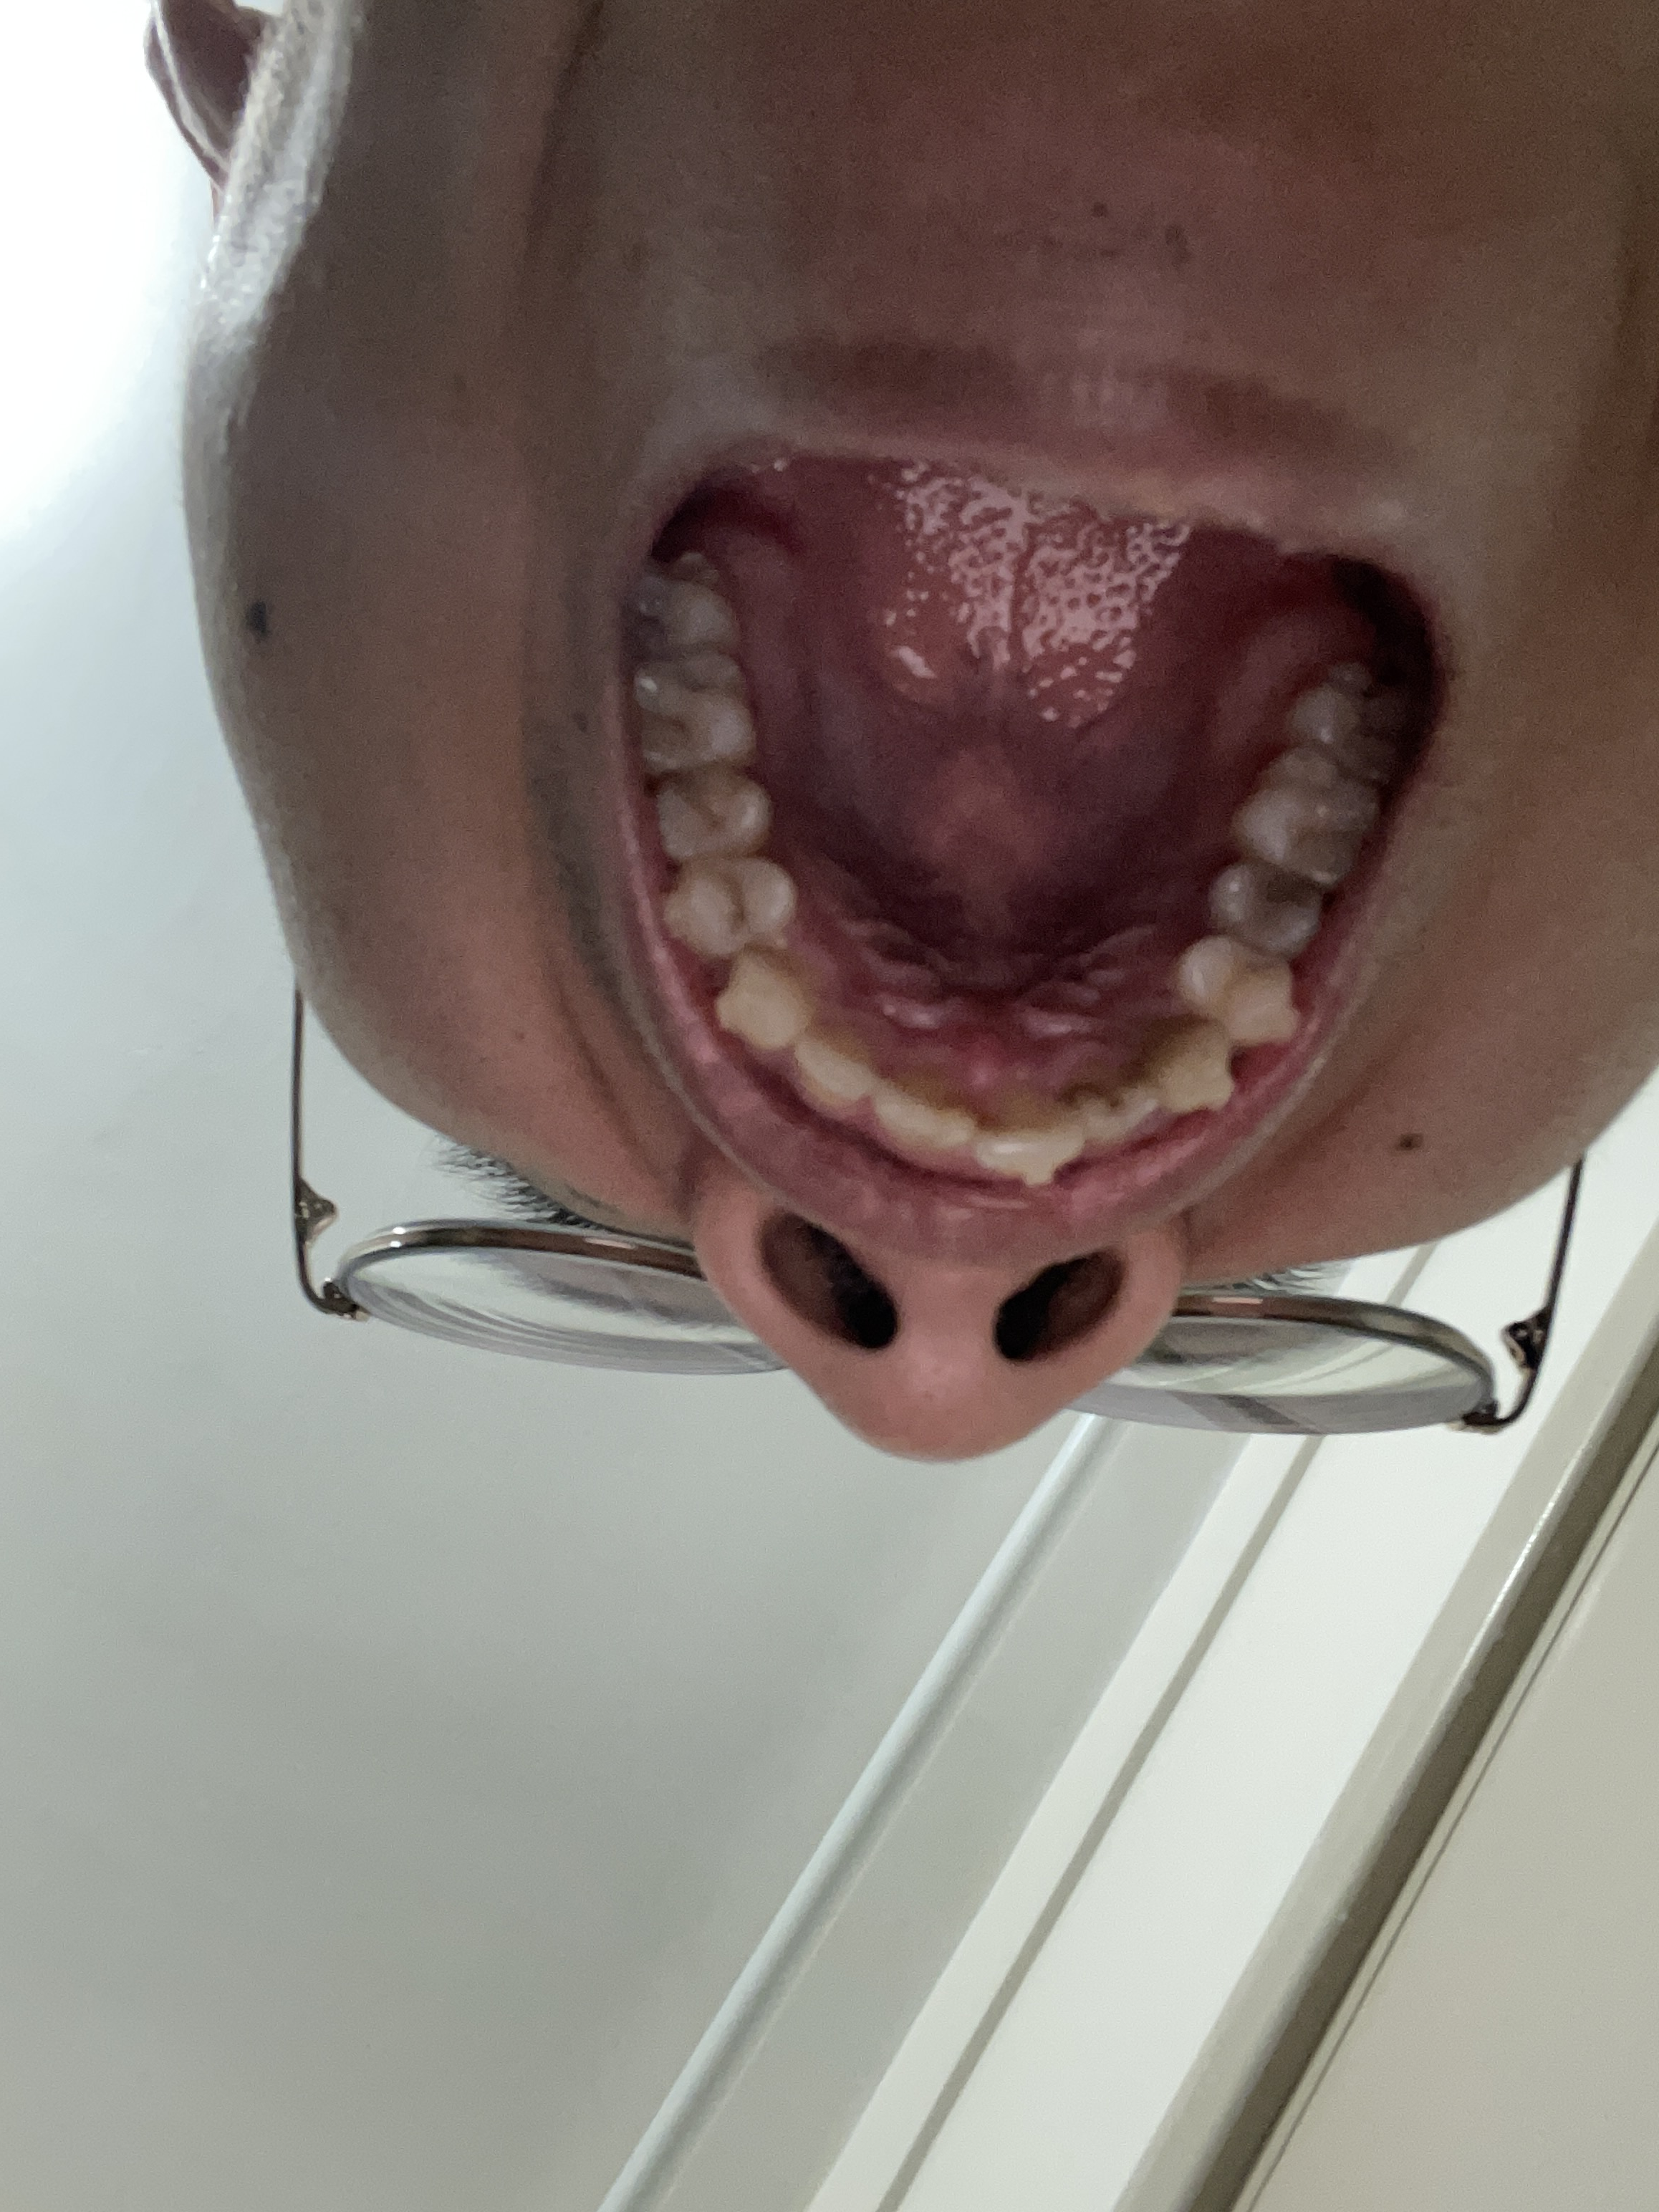teeth: (1256, 766, 1370, 871), (633, 662, 742, 763), (1300, 669, 1403, 756), (1185, 946, 1288, 1026), (666, 773, 751, 862), (871, 1064, 960, 1146), (1227, 871, 1321, 946), (1161, 1031, 1248, 1101), (704, 878, 782, 949), (999, 1115, 1079, 1184), (650, 552, 725, 624), (735, 953, 819, 1015), (795, 1047, 868, 1089), (1100, 1085, 1152, 1130)
